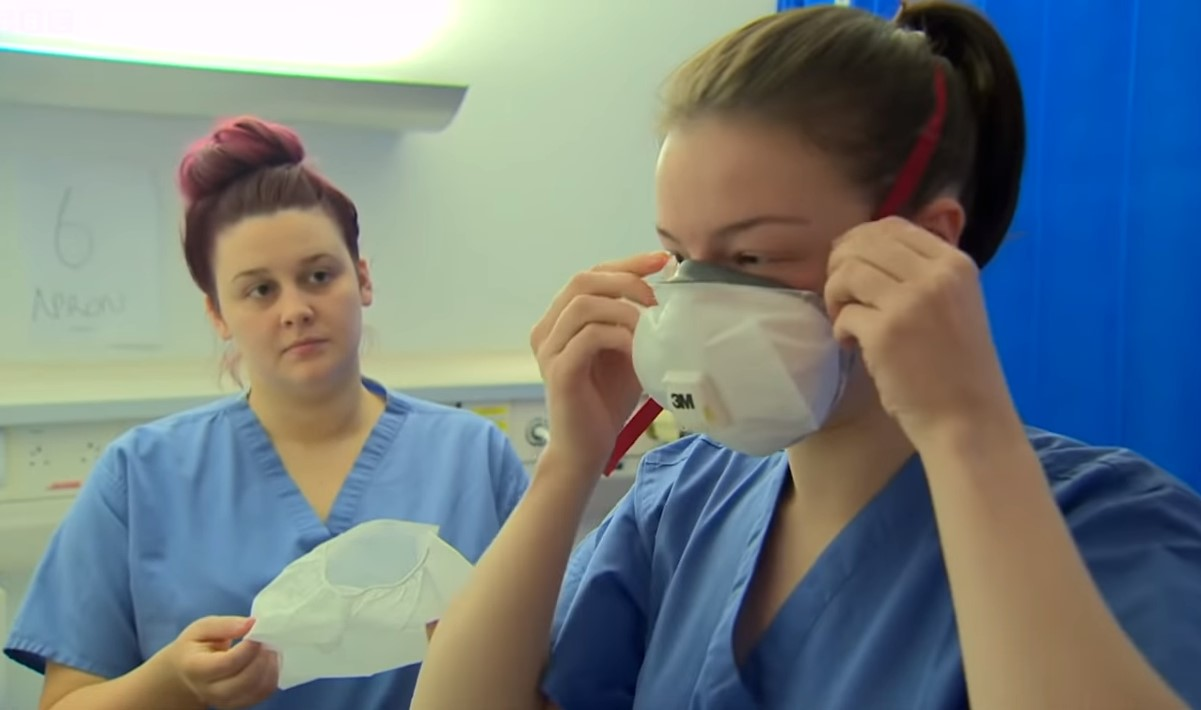face_no_mask: (174, 115, 381, 402)
face_with_mask: (624, 11, 978, 459)
